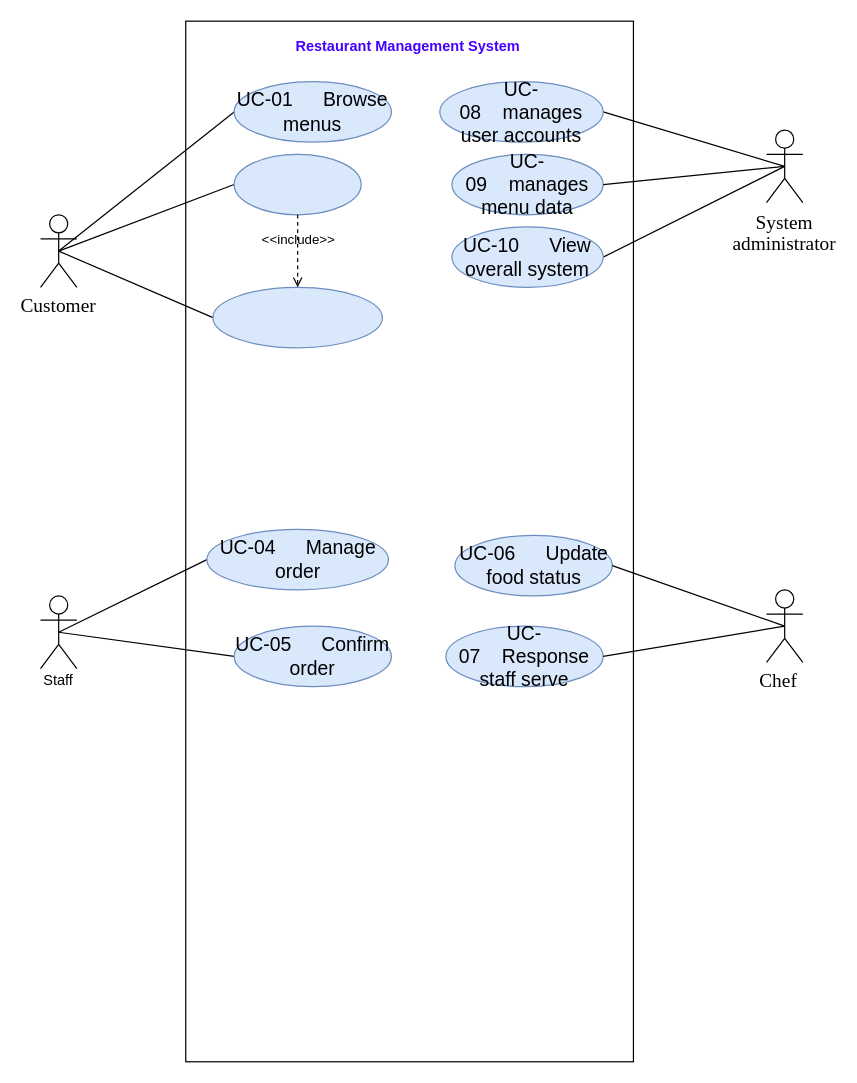
This 857x1083 diagram has some shape labels left out. The shapes that lost their labels are listed below. From the top down, each one's centre as x and y in pixels, then its label:
At pixel 297 184: "UC-02 Place food orders".
At pixel 297 317: "UC-03 Payment complete order".
